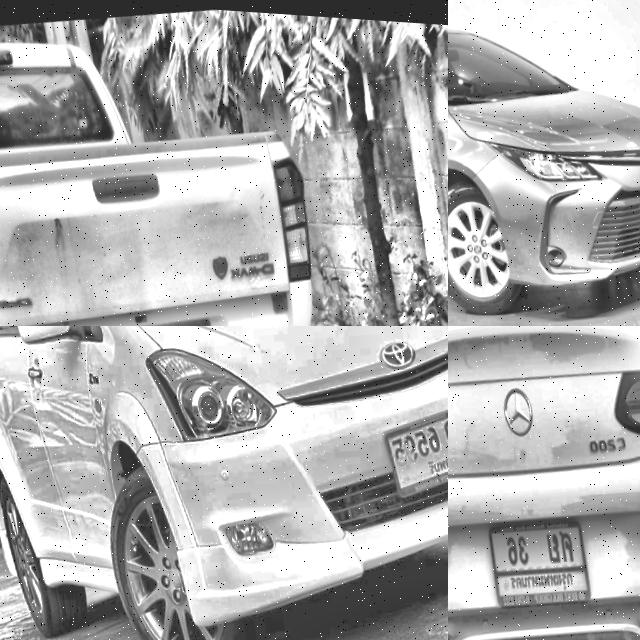license-plate: (484, 505, 594, 616), (374, 386, 448, 500), (92, 308, 183, 326)
